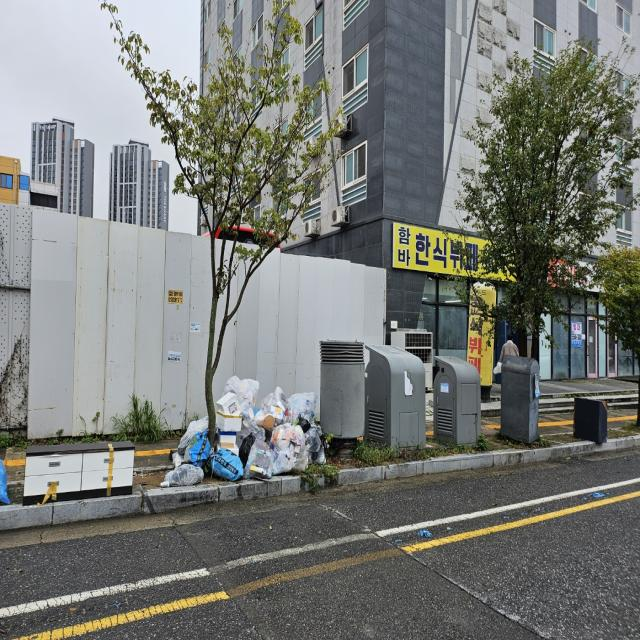CleanNet: (363, 342, 426, 450), (433, 355, 480, 448)
General Waste: (162, 376, 328, 486)
Large Waste Items: (23, 438, 134, 505), (574, 395, 608, 447)
